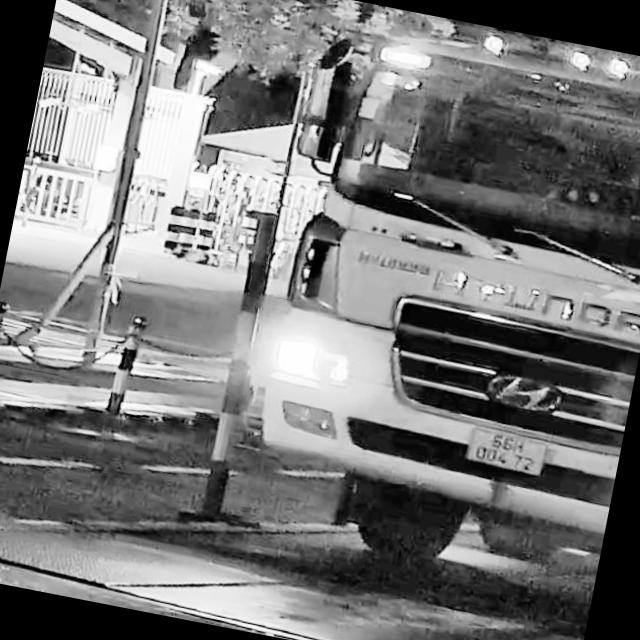Truck: (202, 0, 640, 609)
